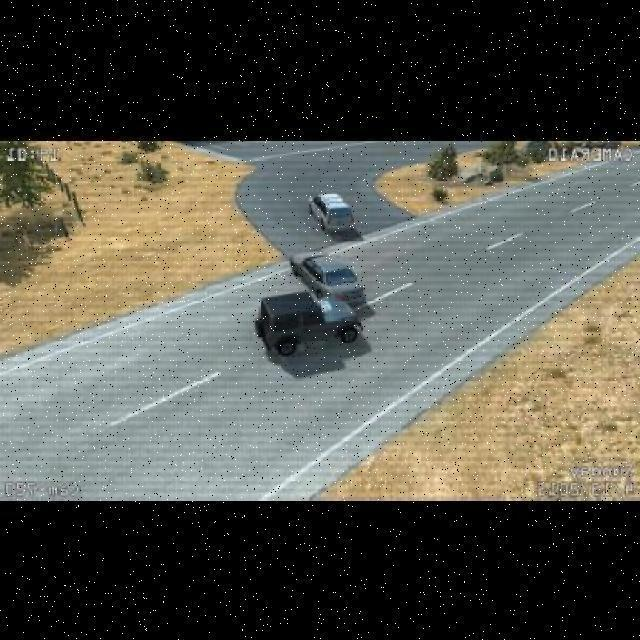accident: (252, 250, 364, 358)
